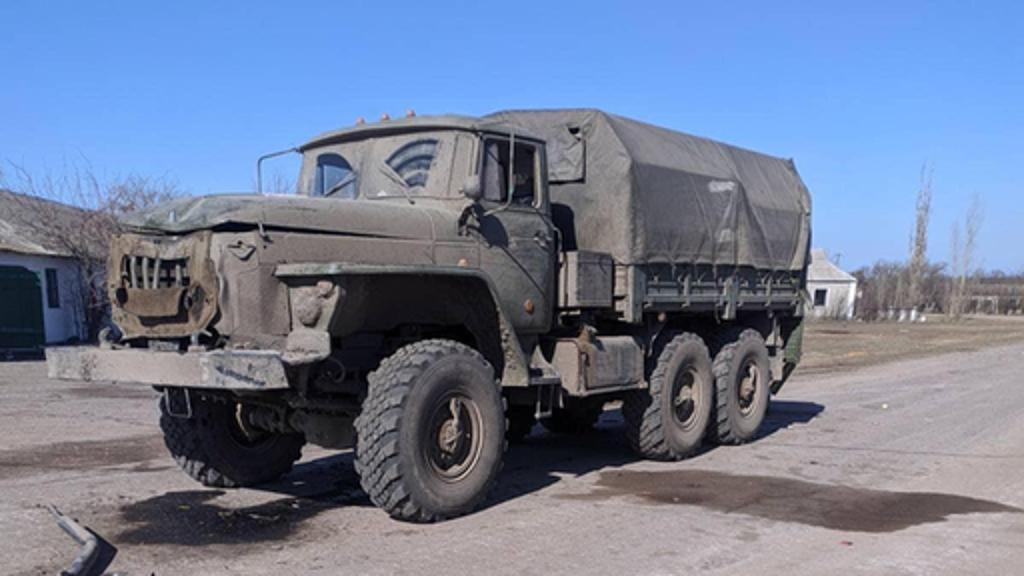TRUCK: (36, 86, 822, 534)
